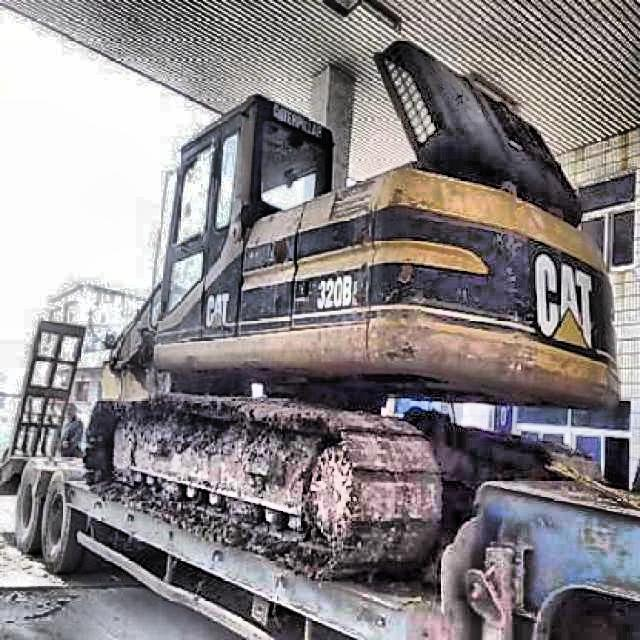excavator: (63, 37, 619, 583)
